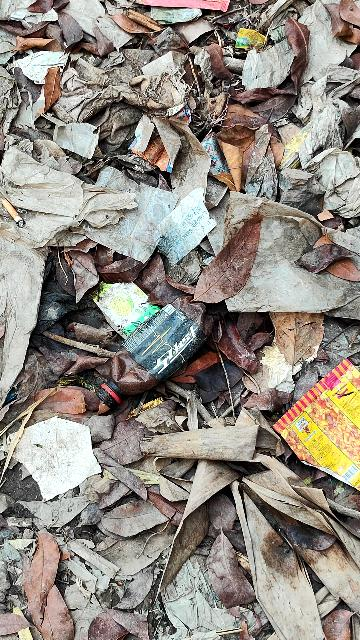bottle: (90, 296, 217, 411)
